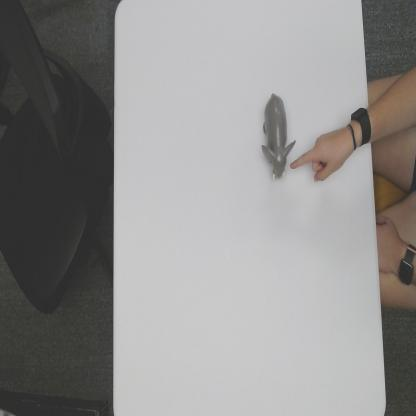Elephant: (260, 91, 296, 183)
Hand: (290, 122, 355, 183)
